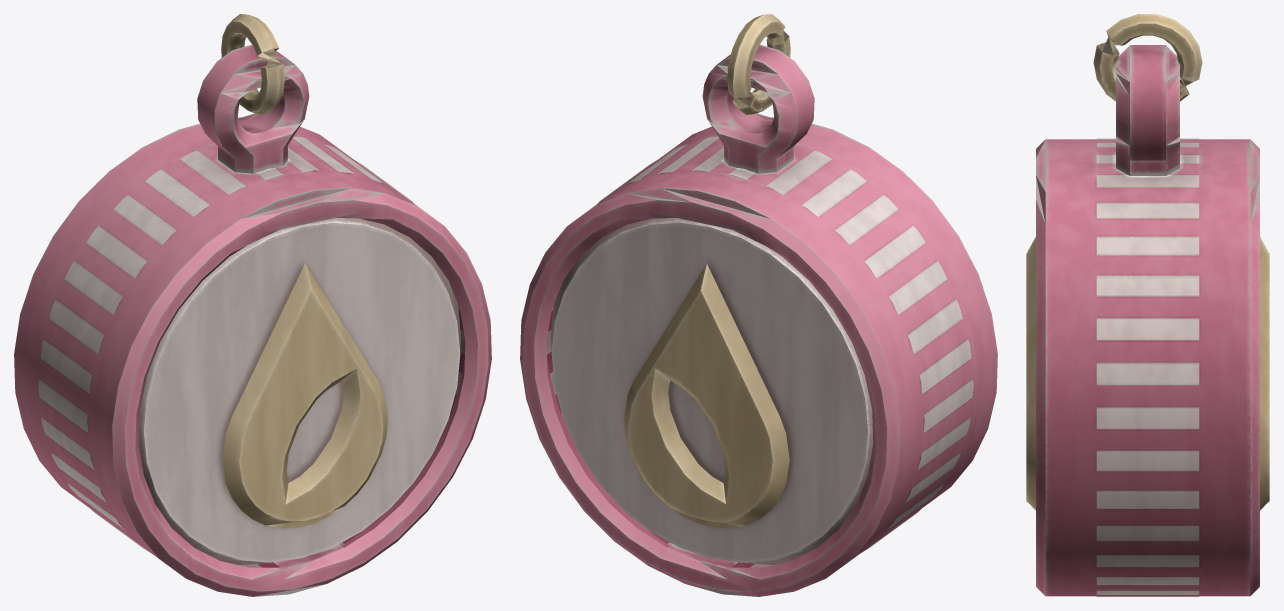
The model's file is Tendril Tether_Head.fbx.
The picture shows the model from 3 angles, left to right: view 1: azimuth 30°, elevation 25°; view 2: azimuth 150°, elevation 25°; view 3: azimuth 270°, elevation 25°; orthographic projection. The views are drawn at different scales.
Parts seen in each view (by area): view 1: Tendril Tether_Head; view 2: Tendril Tether_Head; view 3: Tendril Tether_Head.
Boxes of the visible parts, left/top/right/bottom form: Tendril Tether_Head: left=14, top=14, right=491, bottom=596; Tendril Tether_Head: left=520, top=14, right=997, bottom=596; Tendril Tether_Head: left=1026, top=14, right=1269, bottom=596.
Size of the model in its own units: 0.7164 by 0.9677 by 0.38.
